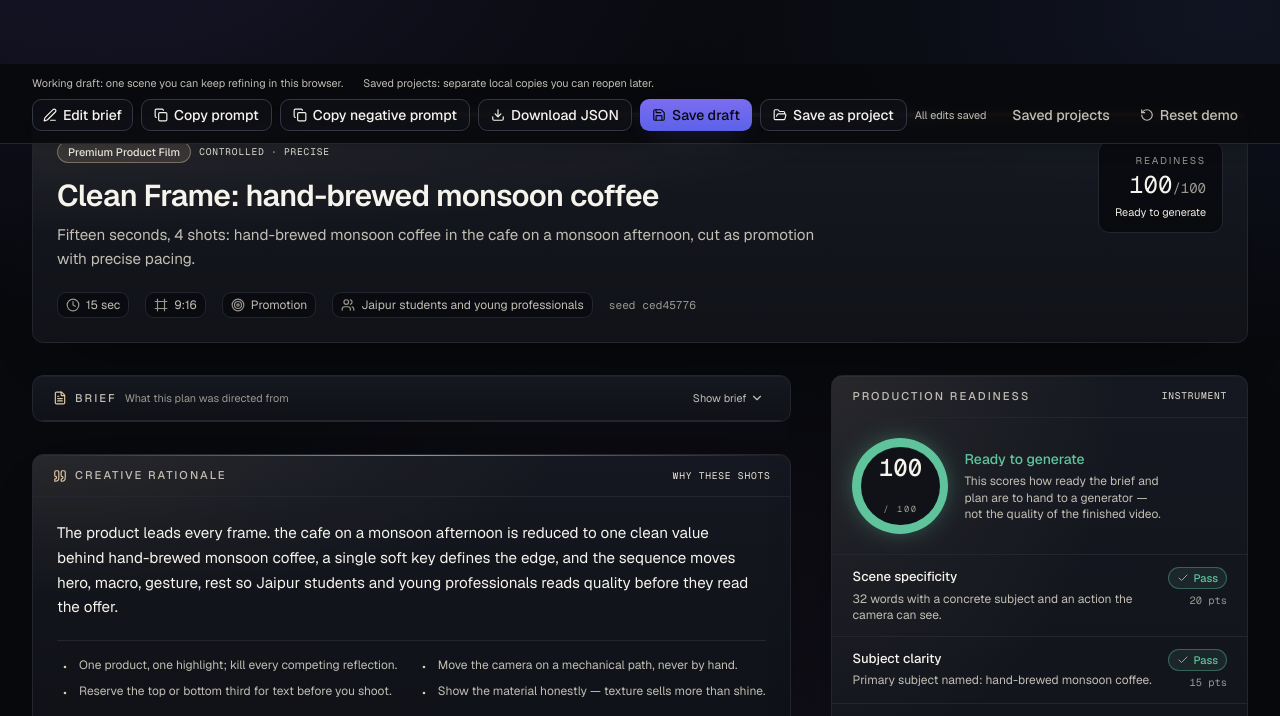
Test: ResultsWorkspace — save as project › turns the current draft into a saved project and opens it
Click the button "Save as project".
click(833, 115)  # box [760,99,907,131]
(page scrolled)
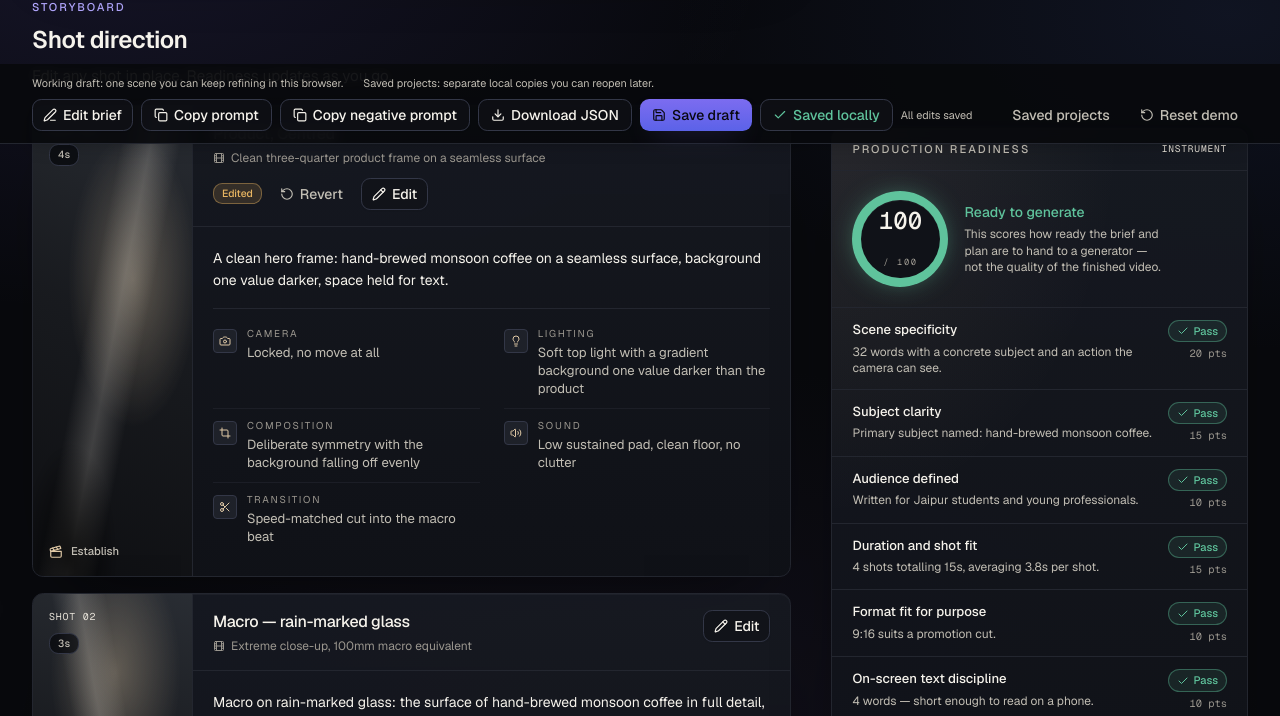
Result: the text "Locked, no move at all" is shown at [247,344,380,362]
